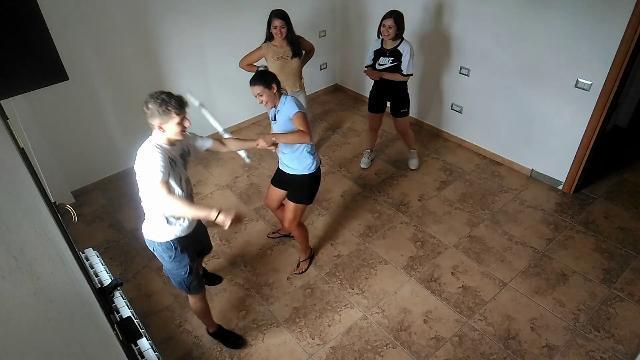non-violence: (358, 8, 422, 173), (240, 8, 324, 102)
violence: (134, 69, 324, 351)
